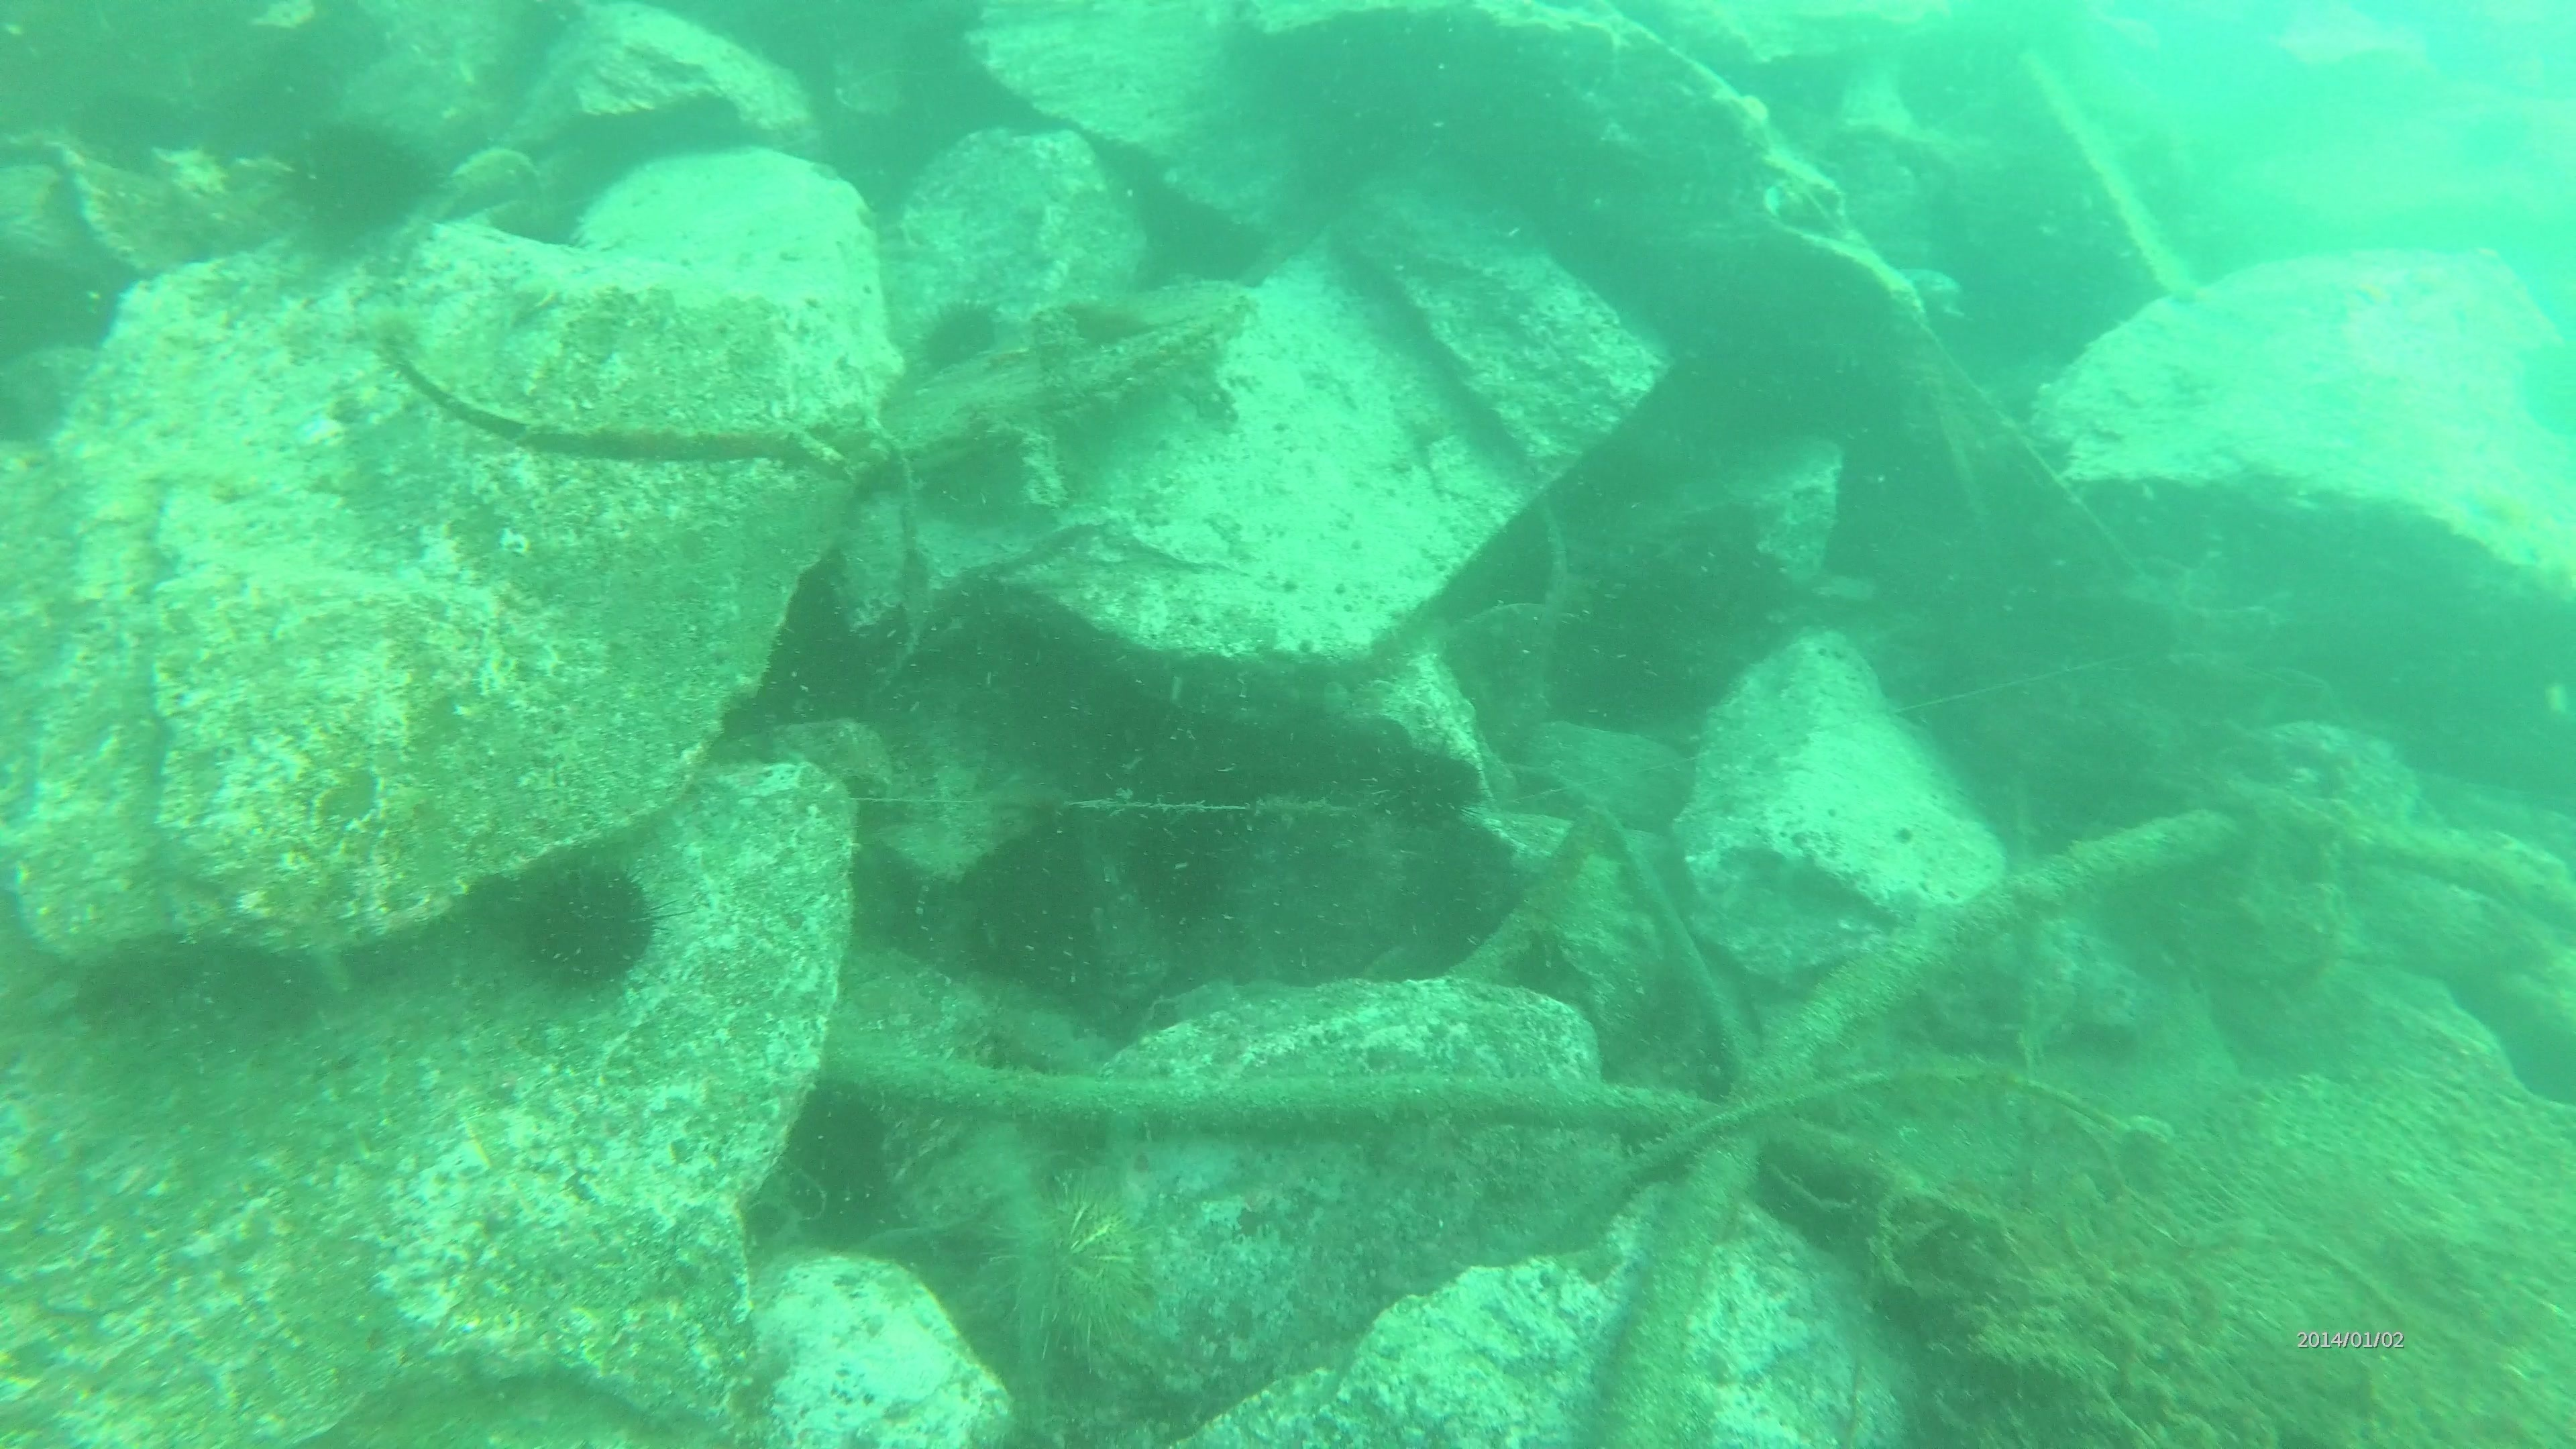echinus: (977, 1173, 1166, 1366), (274, 111, 439, 255), (508, 851, 663, 1000), (1116, 807, 1244, 932), (913, 292, 1010, 380)
